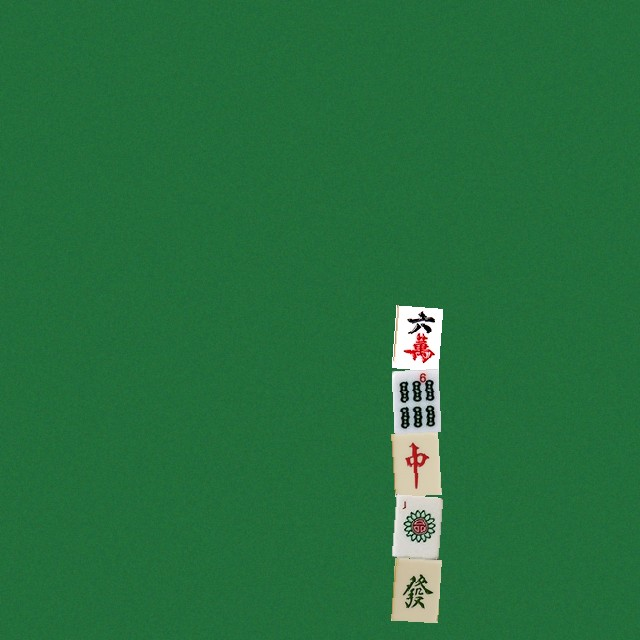tile: (391, 305, 438, 368), (391, 368, 438, 431), (391, 431, 438, 494), (391, 494, 438, 557), (391, 557, 438, 620)
